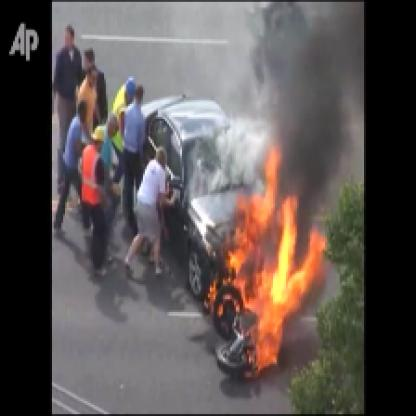Fire: (210, 180, 316, 379)
Smoke: (268, 11, 356, 178), (197, 128, 269, 191)
